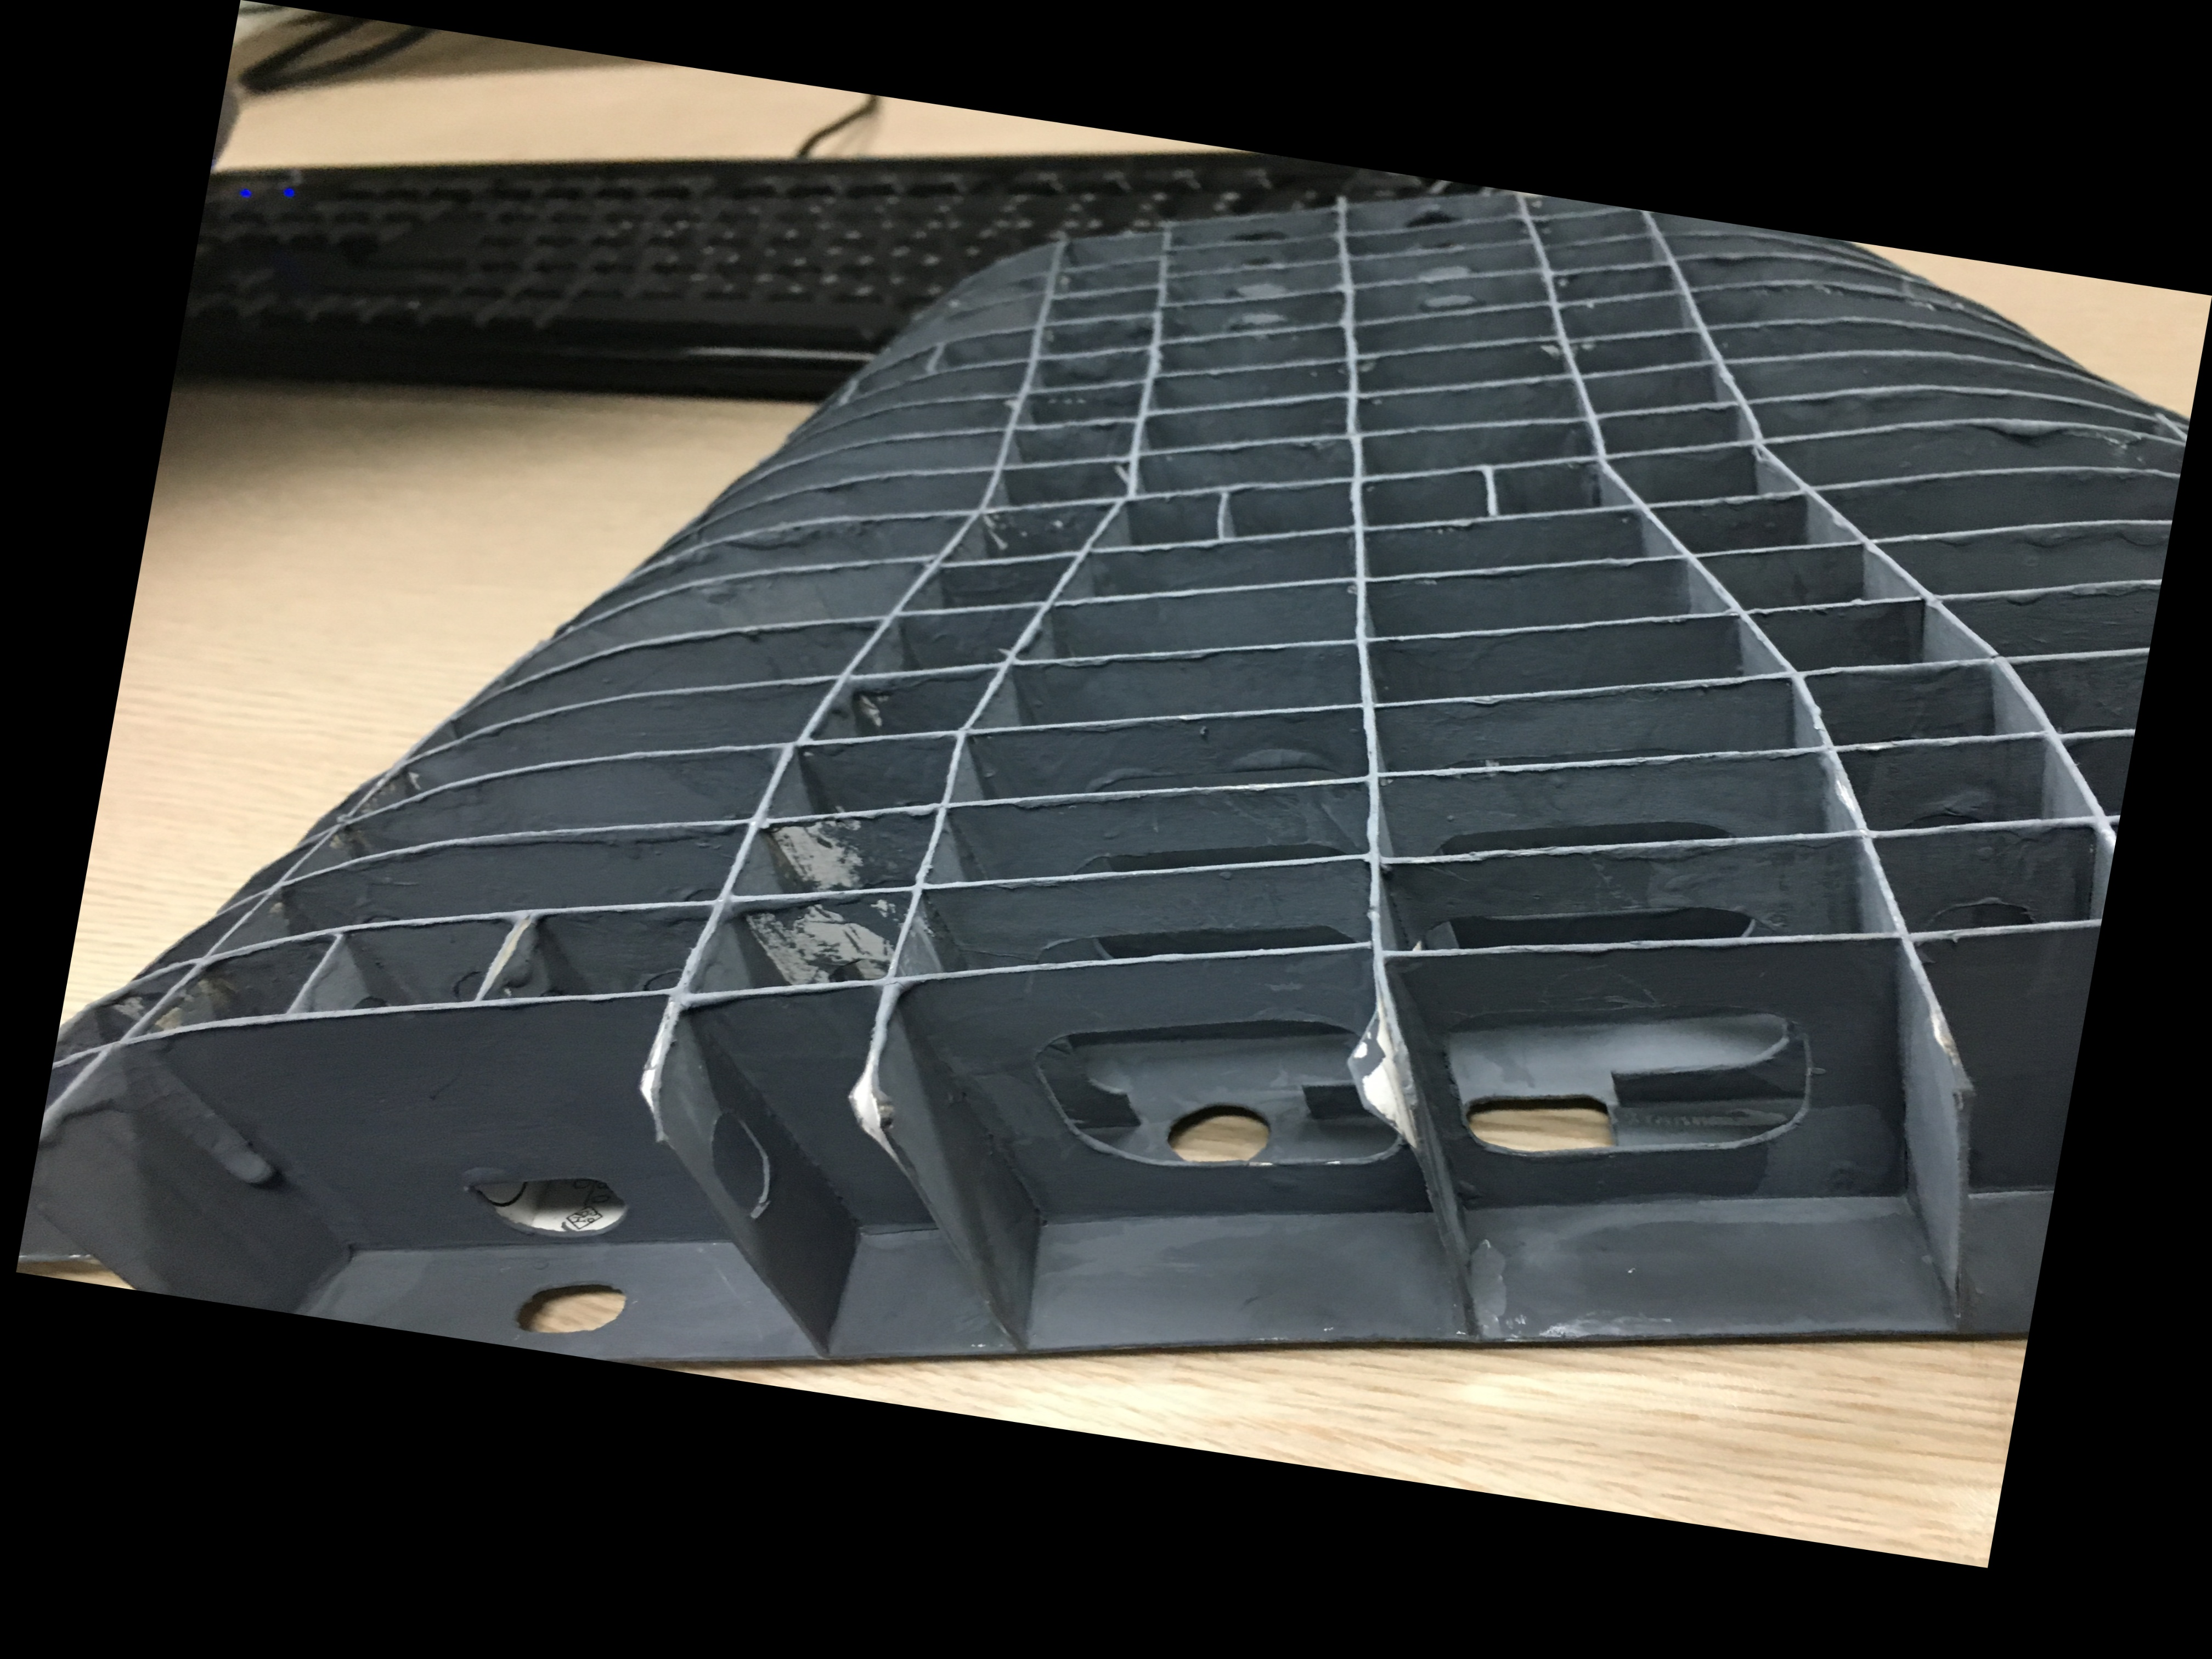A: (28, 7, 2212, 1568)
